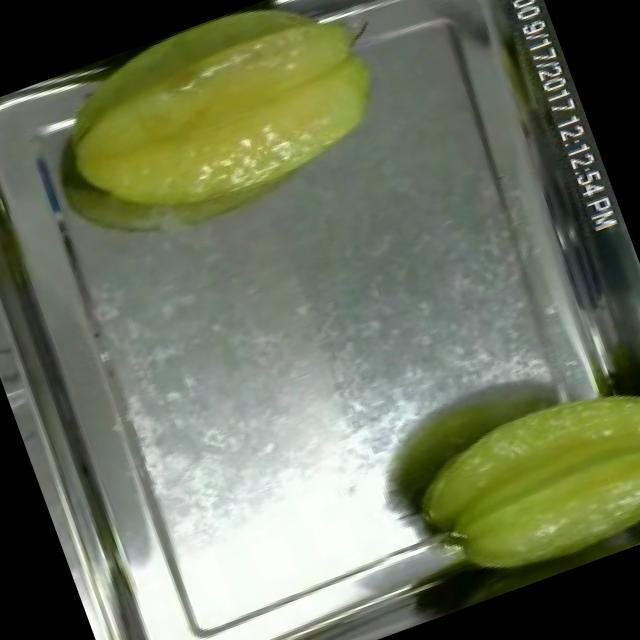fruit: (28, 0, 418, 265), (387, 347, 640, 614)
